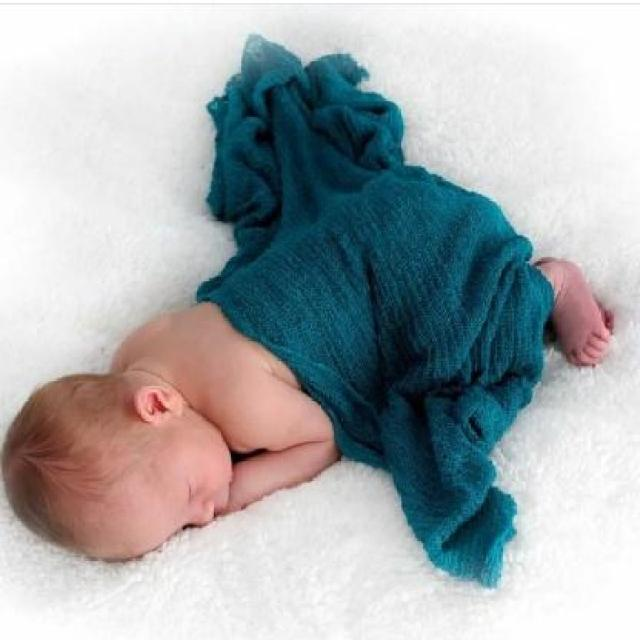baby: (0, 171, 612, 557)
